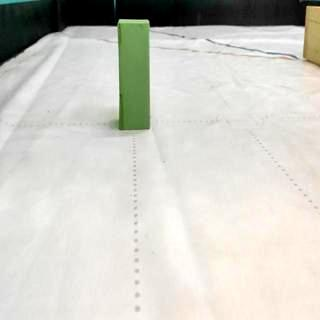greenbox: (118, 18, 150, 130)
